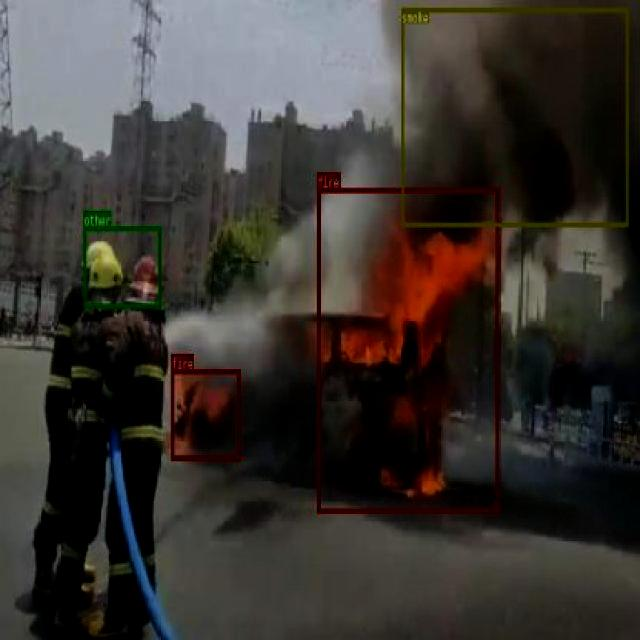fire: (316, 186, 498, 512), (170, 369, 239, 460)
smoke: (401, 8, 628, 226)
